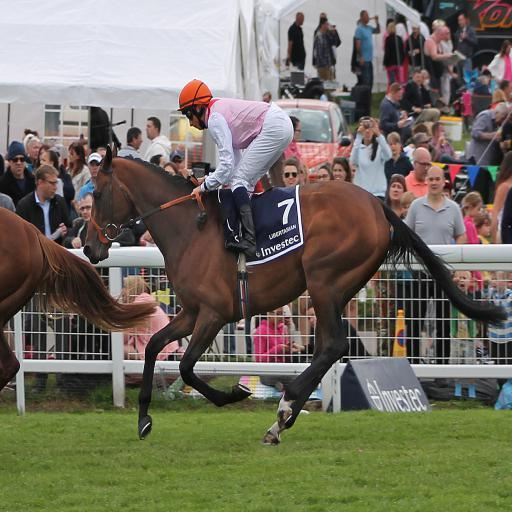horse: (82, 146, 510, 445), (0, 207, 162, 393)
